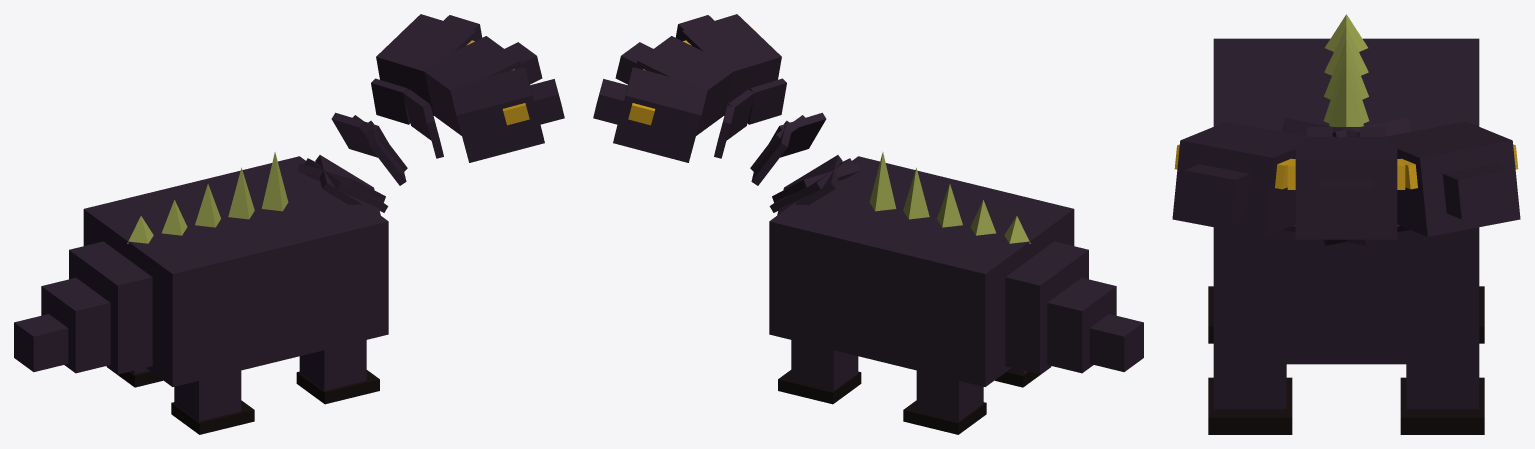
File: hydra.glb
3 views of the same model, side by side, from view 1: azimuth 30°, elevation 25°; view 2: azimuth 150°, elevation 25°; view 3: azimuth 270°, elevation 25° (orthographic). The views are drawn at different scales.
Parts seen in each view (by area): view 1: geometry_0; view 2: geometry_0; view 3: geometry_0.
Boxes of the visible parts, <box> form: geometry_0: <box>14,14,564,434</box>; geometry_0: <box>593,14,1143,434</box>; geometry_0: <box>1172,14,1520,434</box>.
Bounding box in the file's own units: 1.32 × 0.6619 × 0.5241.
